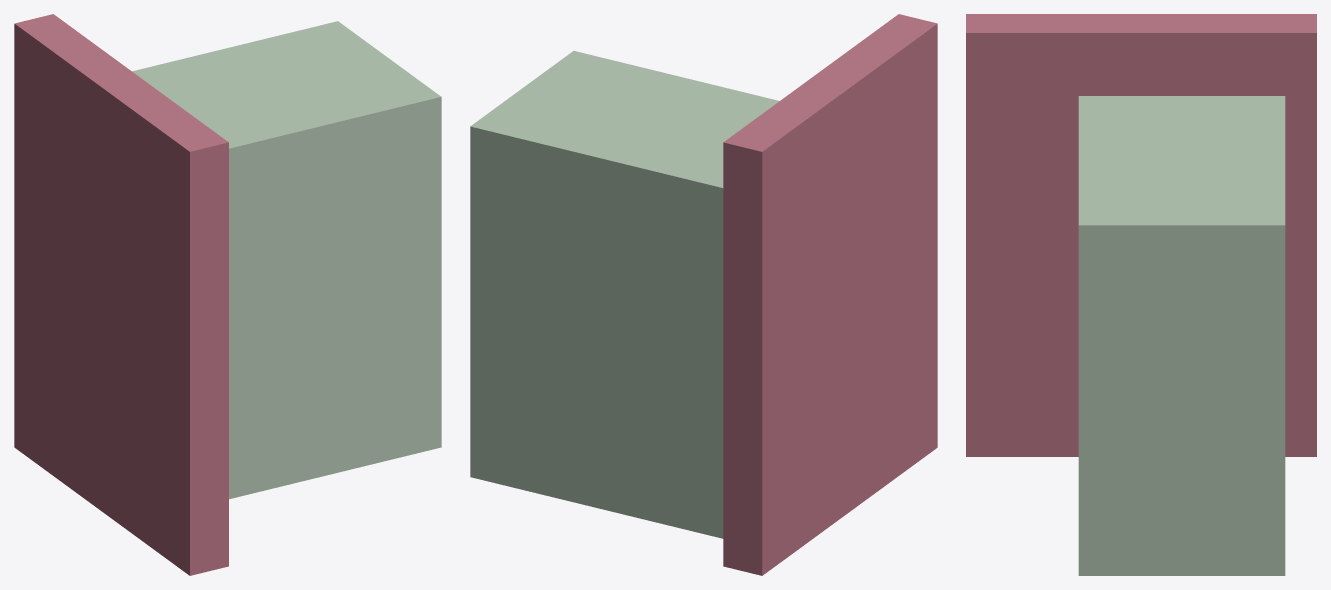
The picture shows the model from 3 angles, left to right: view 1: azimuth 30°, elevation 25°; view 2: azimuth 150°, elevation 25°; view 3: azimuth 270°, elevation 25°; orthographic projection.
Parts seen in each view (by area): view 1: world; view 2: world; view 3: world.
Part boxes in pixels (x1=…): world: x1=14, y1=14, x2=441, y2=575; world: x1=470, y1=14, x2=937, y2=575; world: x1=966, y1=14, x2=1316, y2=575.
Bounding box in the file's own units: 3.95 × 5.2 × 3.9.
